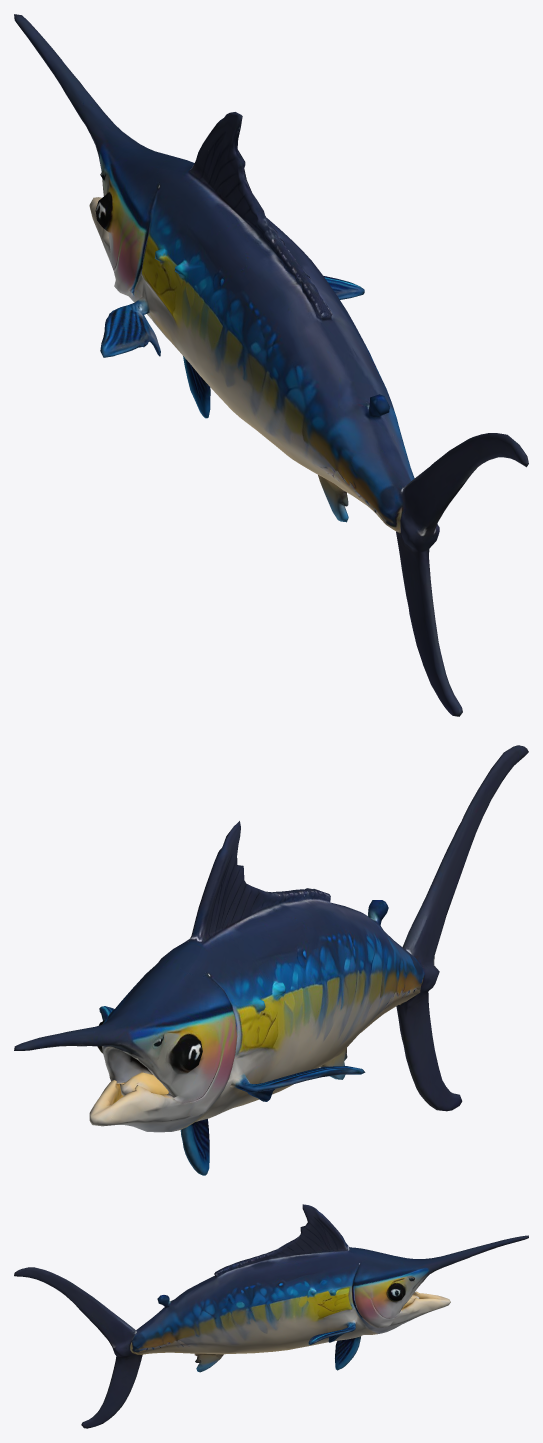
File: marlin.glb
3 renders of one model, top to bottom at view 1: azimuth 30°, elevation 25°; view 2: azimuth 150°, elevation 25°; view 3: azimuth 270°, elevation 25°, orthographic. The views are drawn at different scales.
Parts seen in each view (by area): view 1: tripo_node_89752caa-4c74-432e-ba2c-cedd32885b1d; view 2: tripo_node_89752caa-4c74-432e-ba2c-cedd32885b1d; view 3: tripo_node_89752caa-4c74-432e-ba2c-cedd32885b1d.
Boxes of the visible parts, x1,y1,x2,y2 form: tripo_node_89752caa-4c74-432e-ba2c-cedd32885b1d: (14, 14, 528, 716); tripo_node_89752caa-4c74-432e-ba2c-cedd32885b1d: (14, 745, 528, 1175); tripo_node_89752caa-4c74-432e-ba2c-cedd32885b1d: (14, 1204, 528, 1428).
Bounding box in the file's own units: 0.2968 × 0.479 × 0.9991.
1 material, 1 textured.
